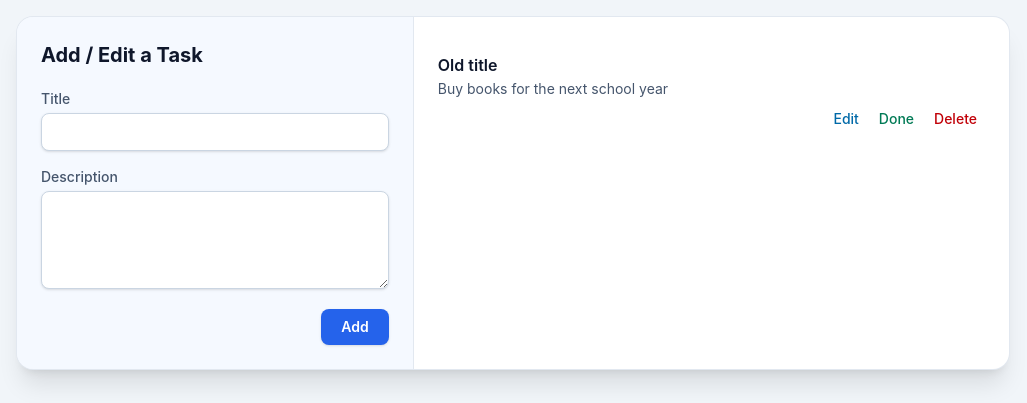
it: App › edits a task: loads it in the form, saves, and returns to create mode
Click the button with aria-label "edit old title" at (846, 119), box [825,105,867,133]
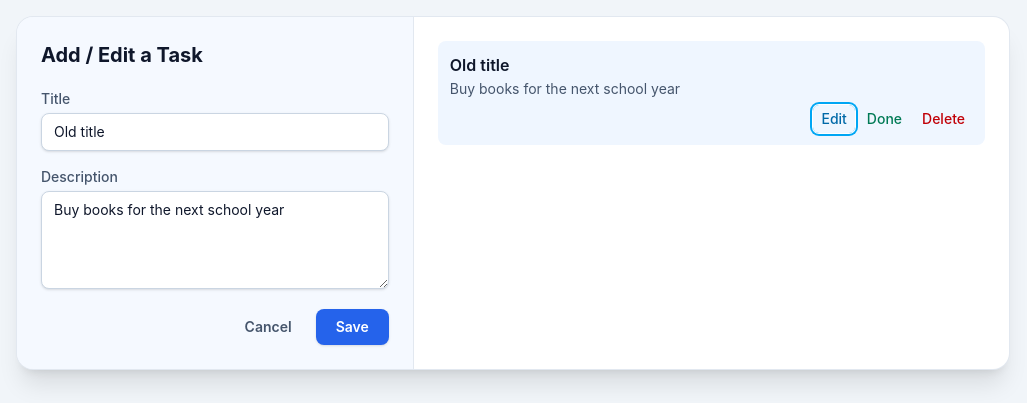
Expected: the field labelled "Title" holds "Old title"
Replace the text in the field labelled "Title" with "New title" at (215, 132), box [41,113,389,151]
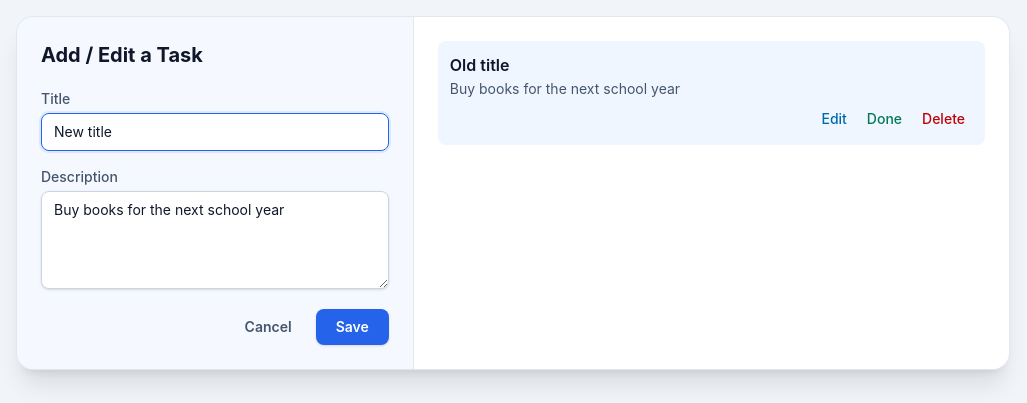
Click the button "Save" at (352, 327), box [316,309,389,345]
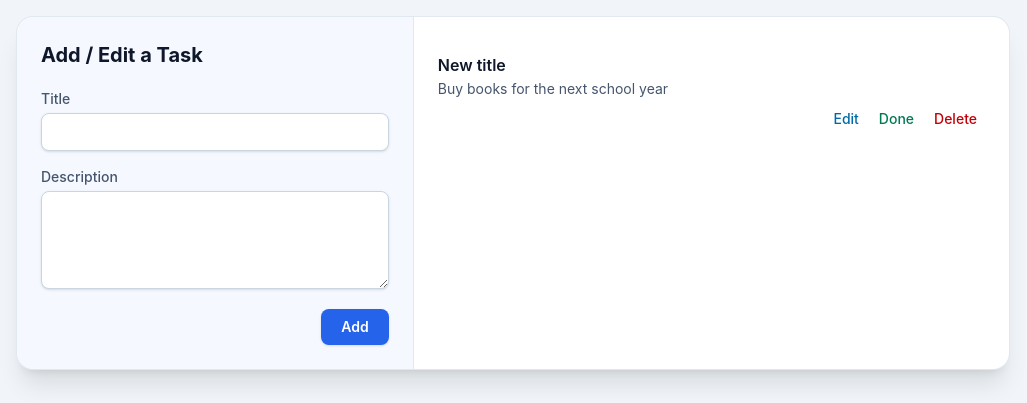
Expected: the heading "New title" is shown, [438,55,506,75]
Expected: the heading "Old title" is gone
Expected: the button "Add" is shown, [321,309,389,345]
